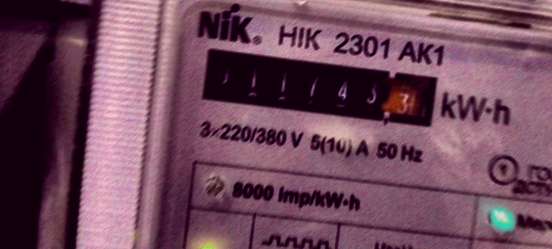0: (215, 57, 232, 87)
1: (275, 64, 290, 93), (246, 61, 259, 89)
3: (363, 77, 380, 106), (393, 90, 410, 116)
4: (334, 74, 350, 102)
7: (304, 67, 322, 97)
screen: (190, 36, 449, 138)
